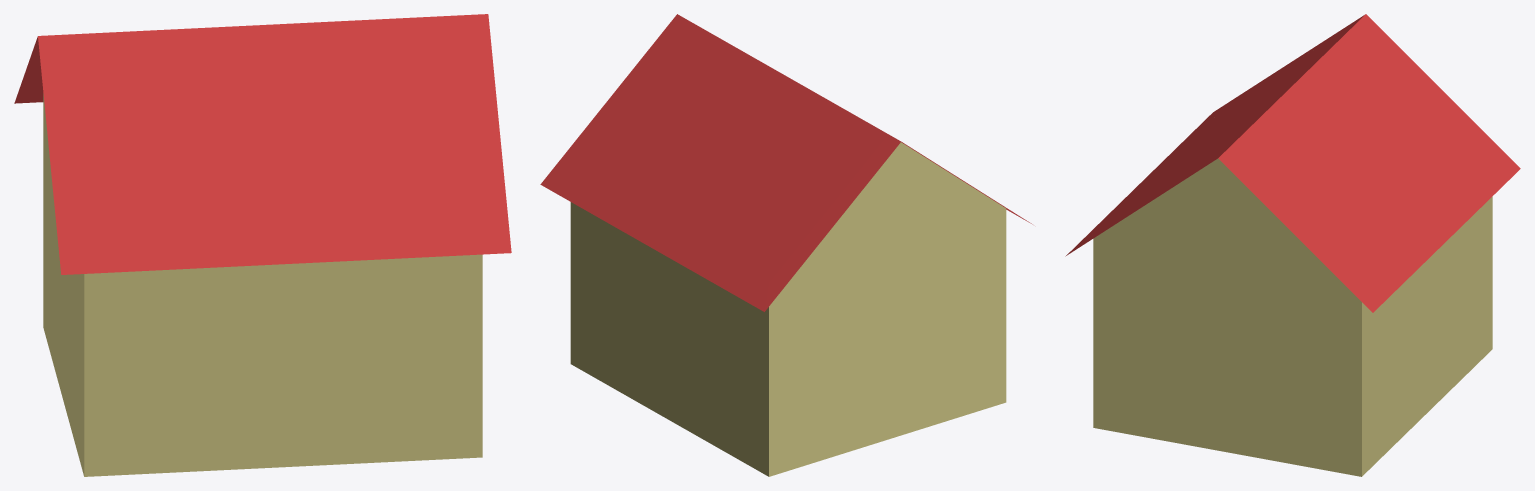
3 renders of one model, left to right at view 1: azimuth 30°, elevation 25°; view 2: azimuth 150°, elevation 25°; view 3: azimuth 270°, elevation 25°, orthographic. The views are drawn at different scales.
Size of the model in its own units: 16.58 by 15.91 by 11.64.
